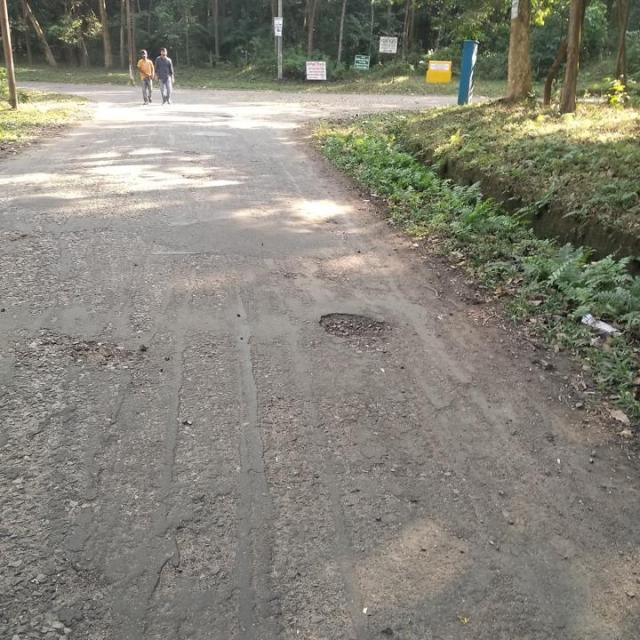Pothole: (321, 309, 400, 356), (75, 338, 139, 372)
